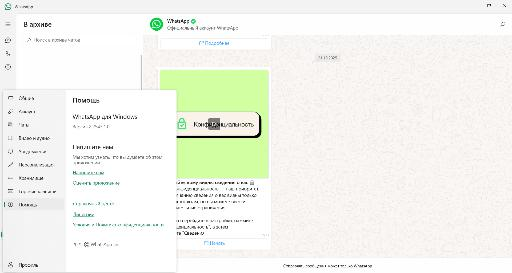whatsapp: (1, 1, 511, 273)
